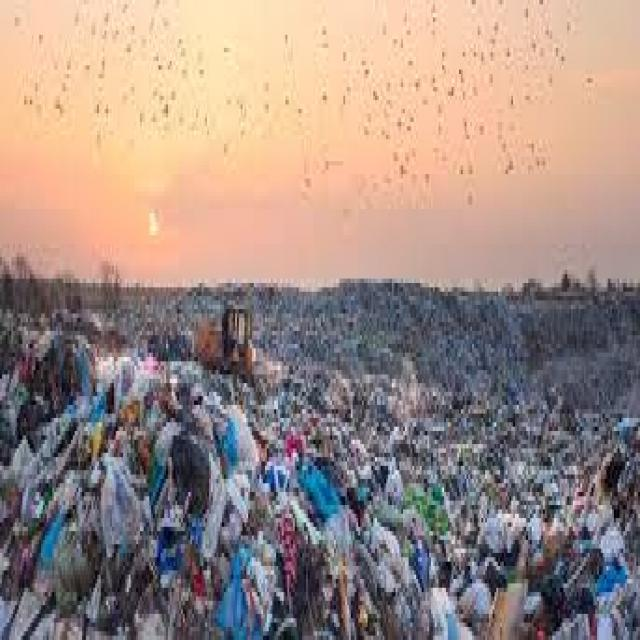plastic: (18, 279, 615, 640)
